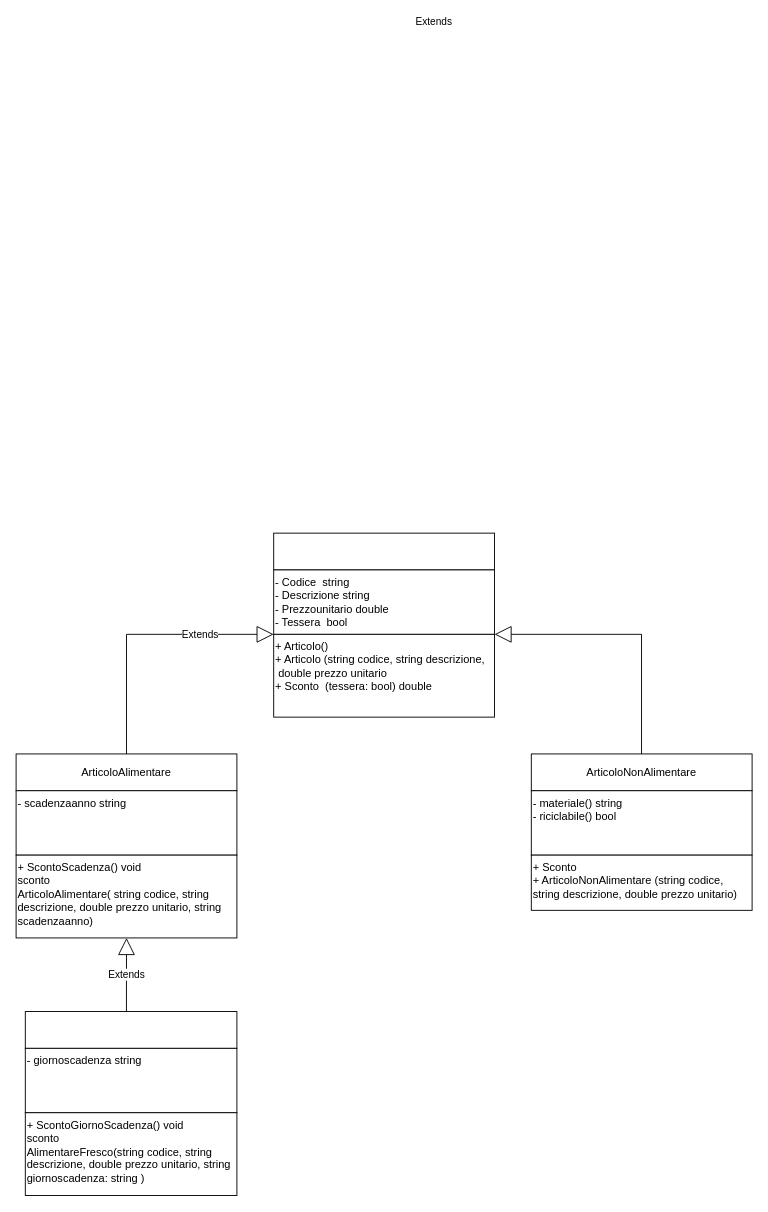
This 768x1212 diagram has some shape labels left out. Here are the shapes that lost their labels. From the top down, the box of each, then its label:
(273, 532, 494, 570): Articolo
(24, 1011, 237, 1048): AlimentareFresco
